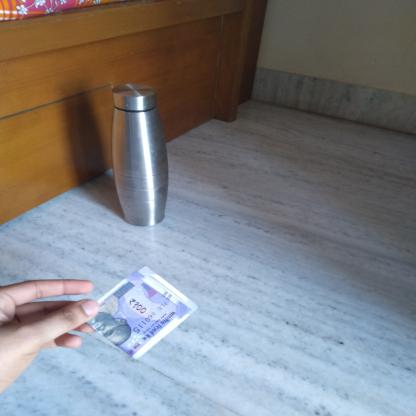New100Front: (82, 274, 185, 358)
